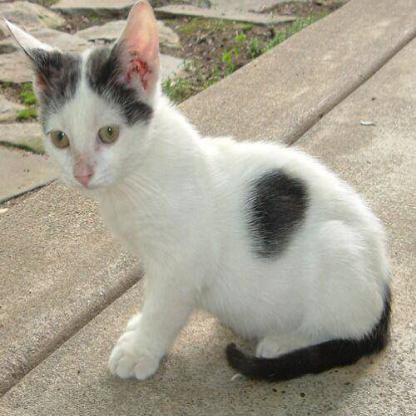cat: (14, 11, 416, 376)
